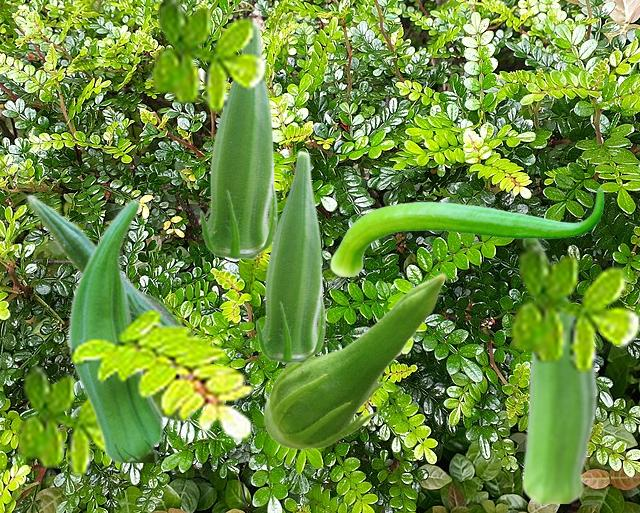okra: (26, 193, 191, 421), (263, 272, 446, 449), (67, 198, 161, 461), (330, 187, 603, 275), (521, 239, 597, 502), (199, 21, 277, 259), (255, 150, 325, 363)
